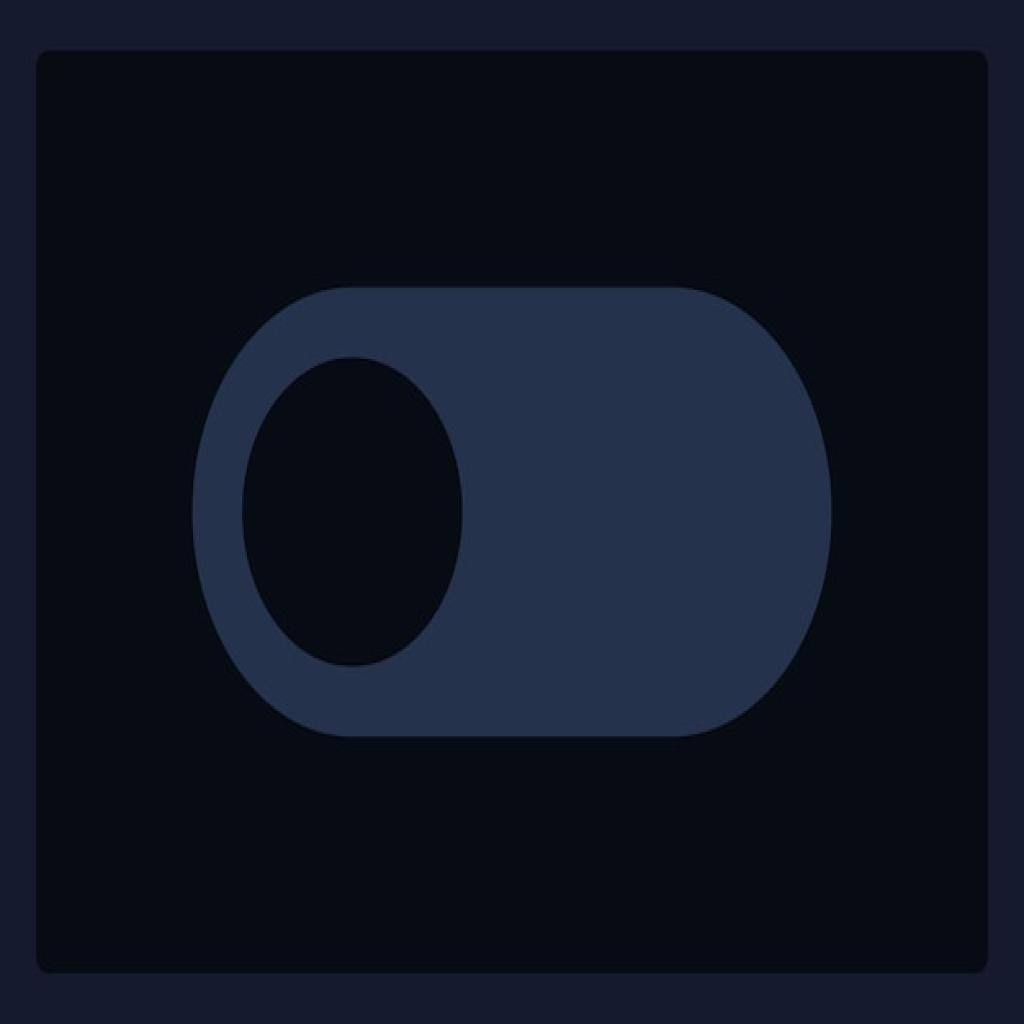switch: (195, 286, 844, 744)
